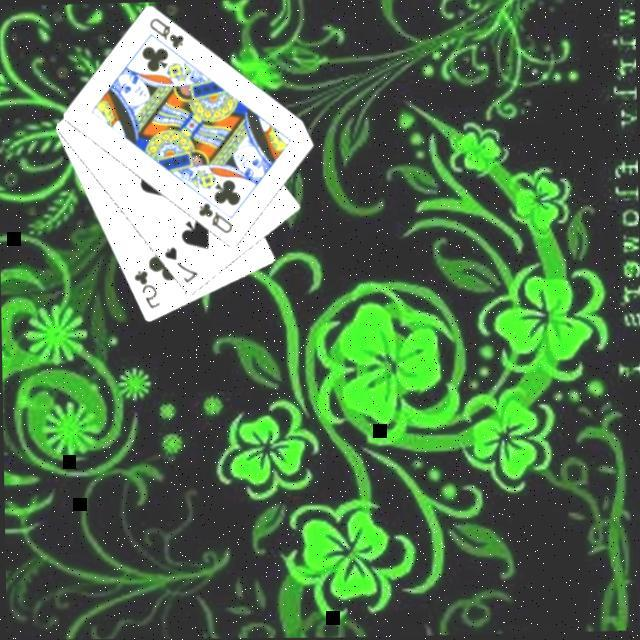5C: (128, 265, 161, 312)
7S: (158, 241, 199, 286)
QC: (192, 198, 233, 237), (144, 12, 185, 51)
